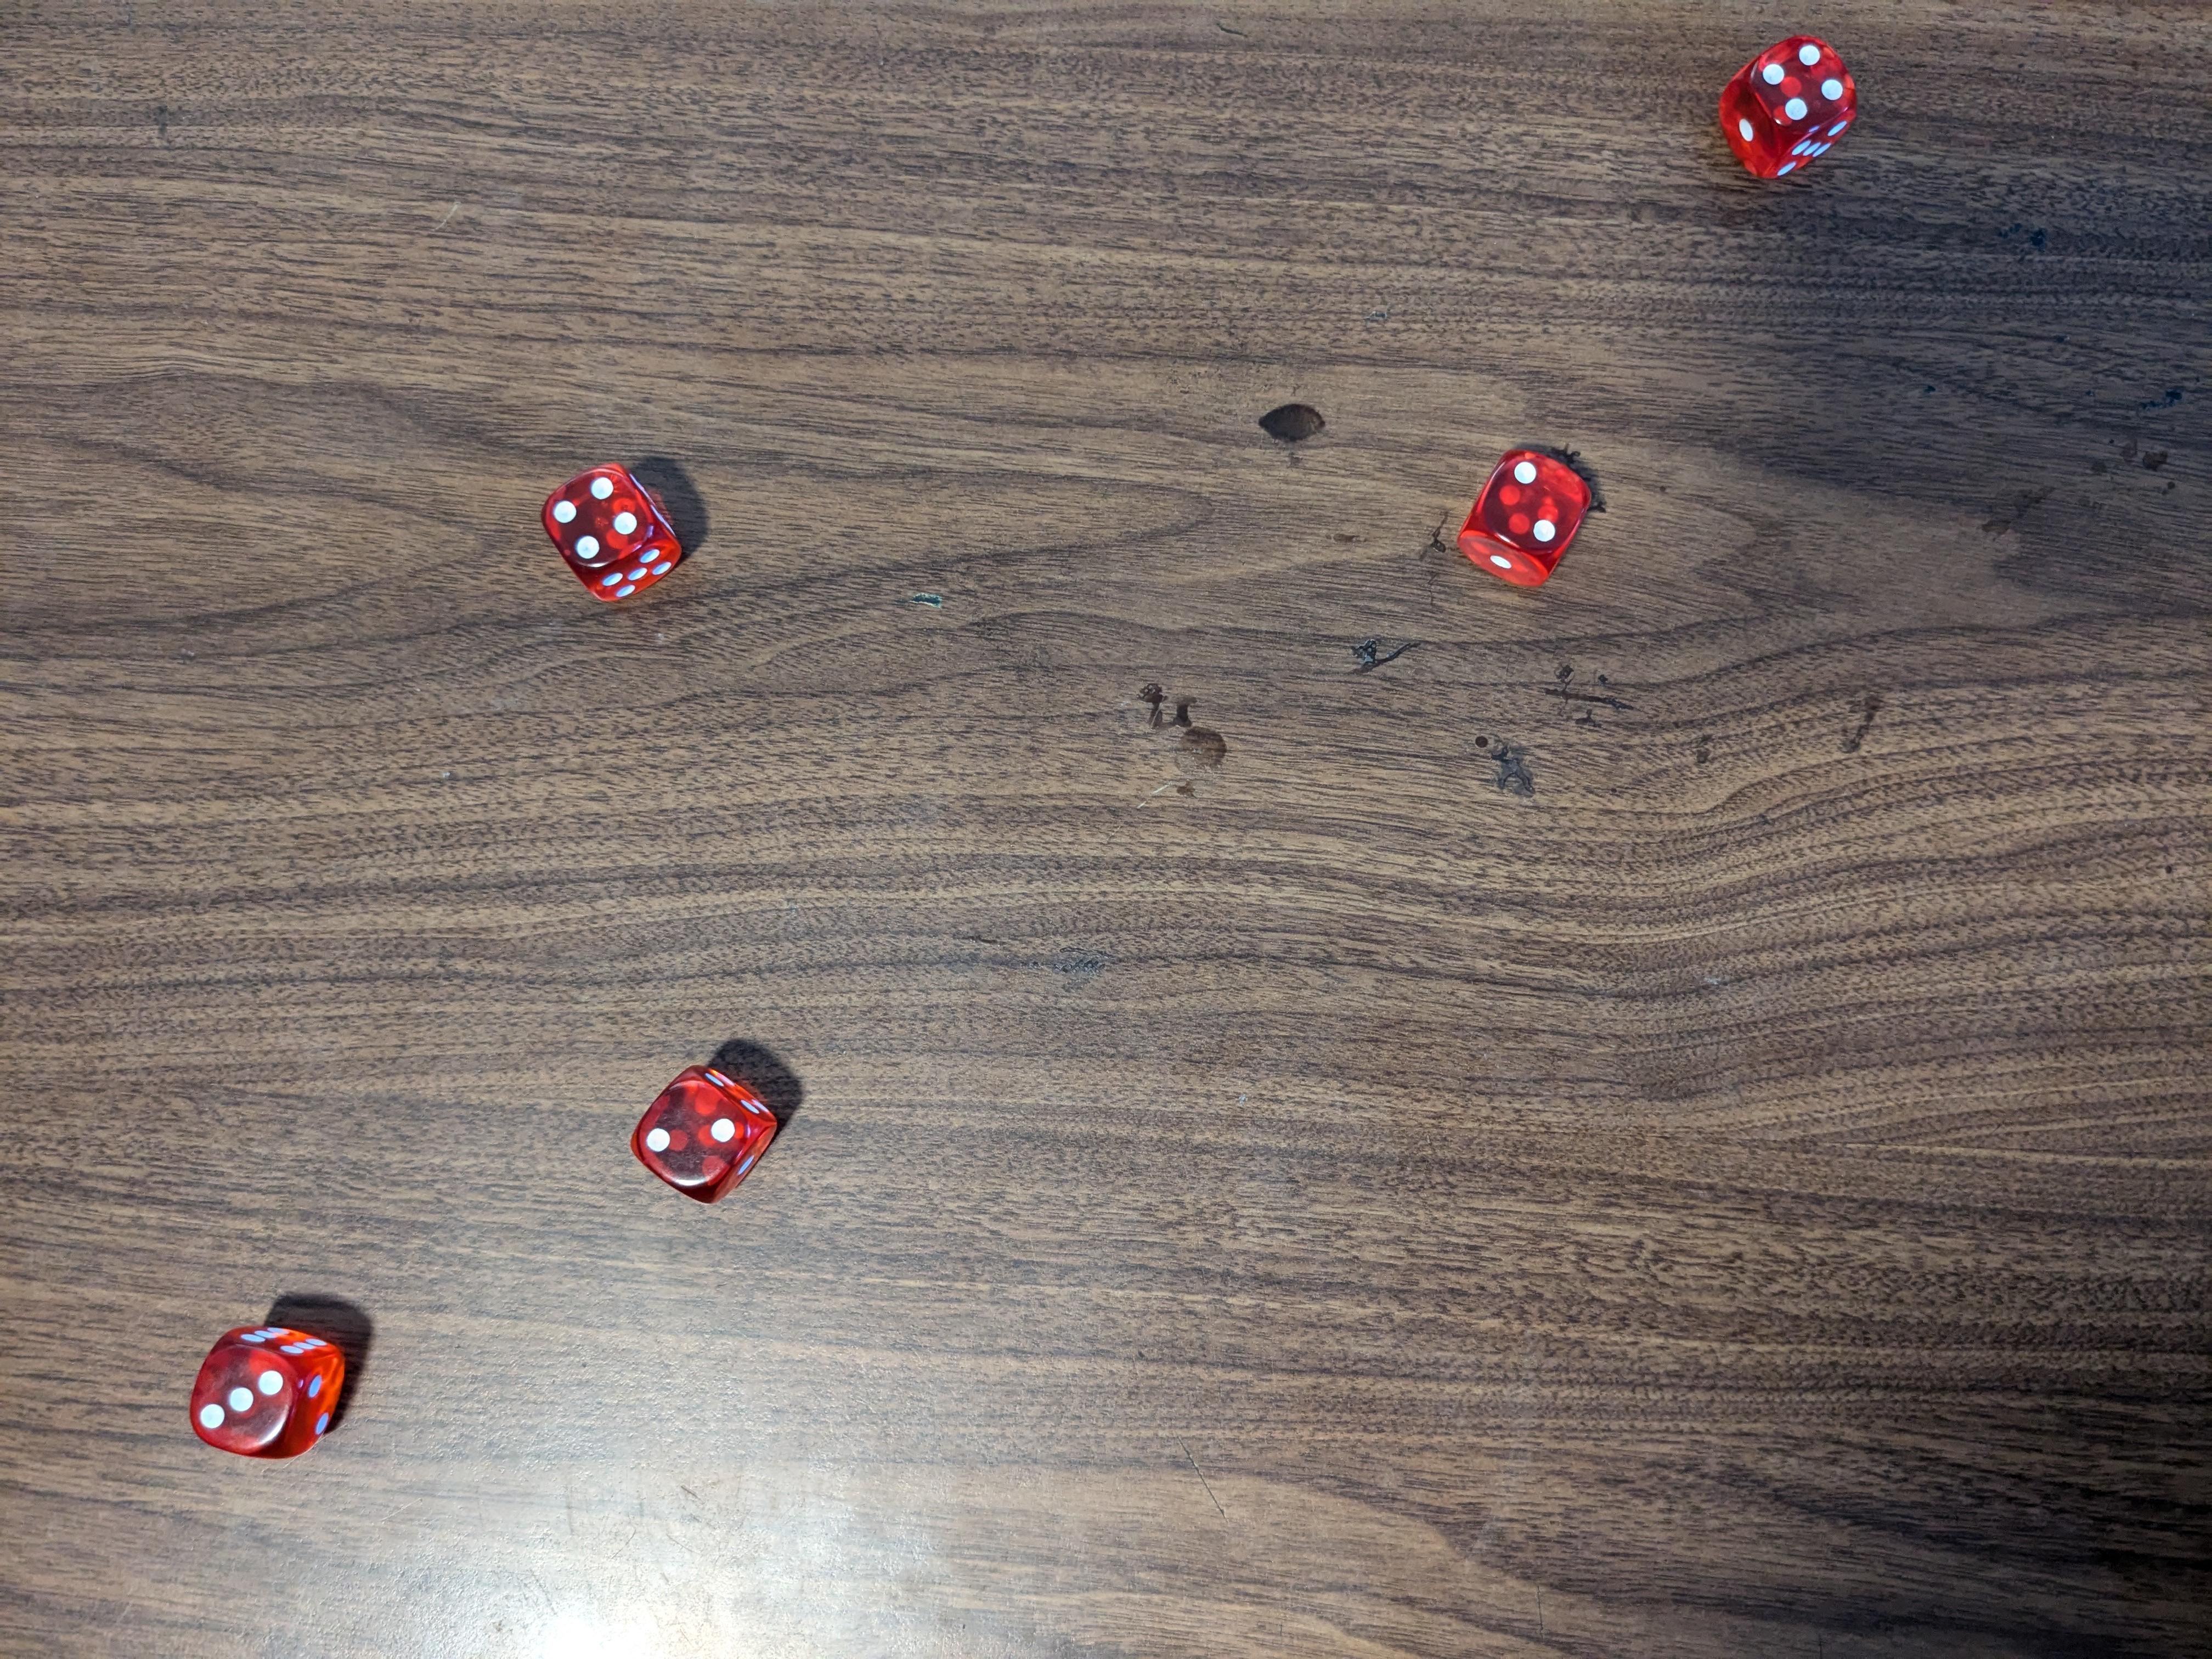four: (1712, 26, 1858, 183), (536, 453, 679, 608)
three: (186, 1323, 348, 1466)
two: (624, 1054, 786, 1209), (1460, 437, 1592, 589)
